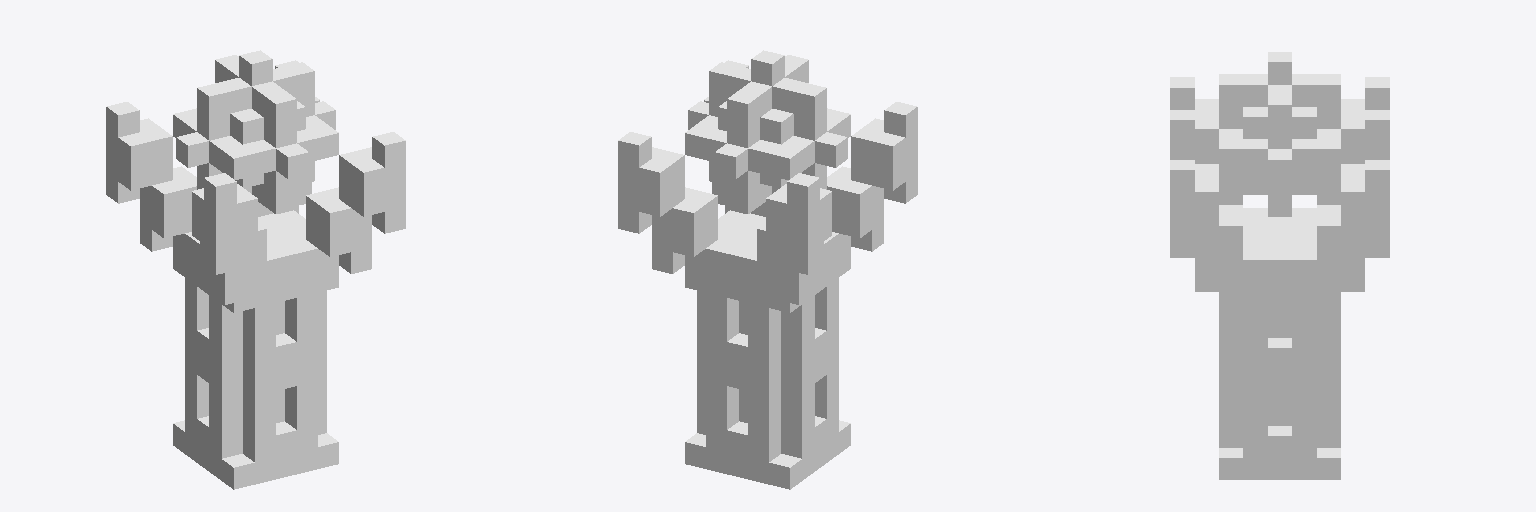
File: MagicTower.obj
3 views of the same model, side by side, from view 1: azimuth 30°, elevation 25°; view 2: azimuth 150°, elevation 25°; view 3: azimuth 270°, elevation 25° (orthographic).
Visible parts, largest first — view 1: object 1; view 2: object 1; view 3: object 1.
Part boxes in pixels (bbox=[...]): object 1: bbox=[106, 50, 405, 489]; object 1: bbox=[618, 50, 917, 489]; object 1: bbox=[1170, 52, 1389, 479].
Bounding box in the file's own units: 0.9 × 1.8 × 0.9.